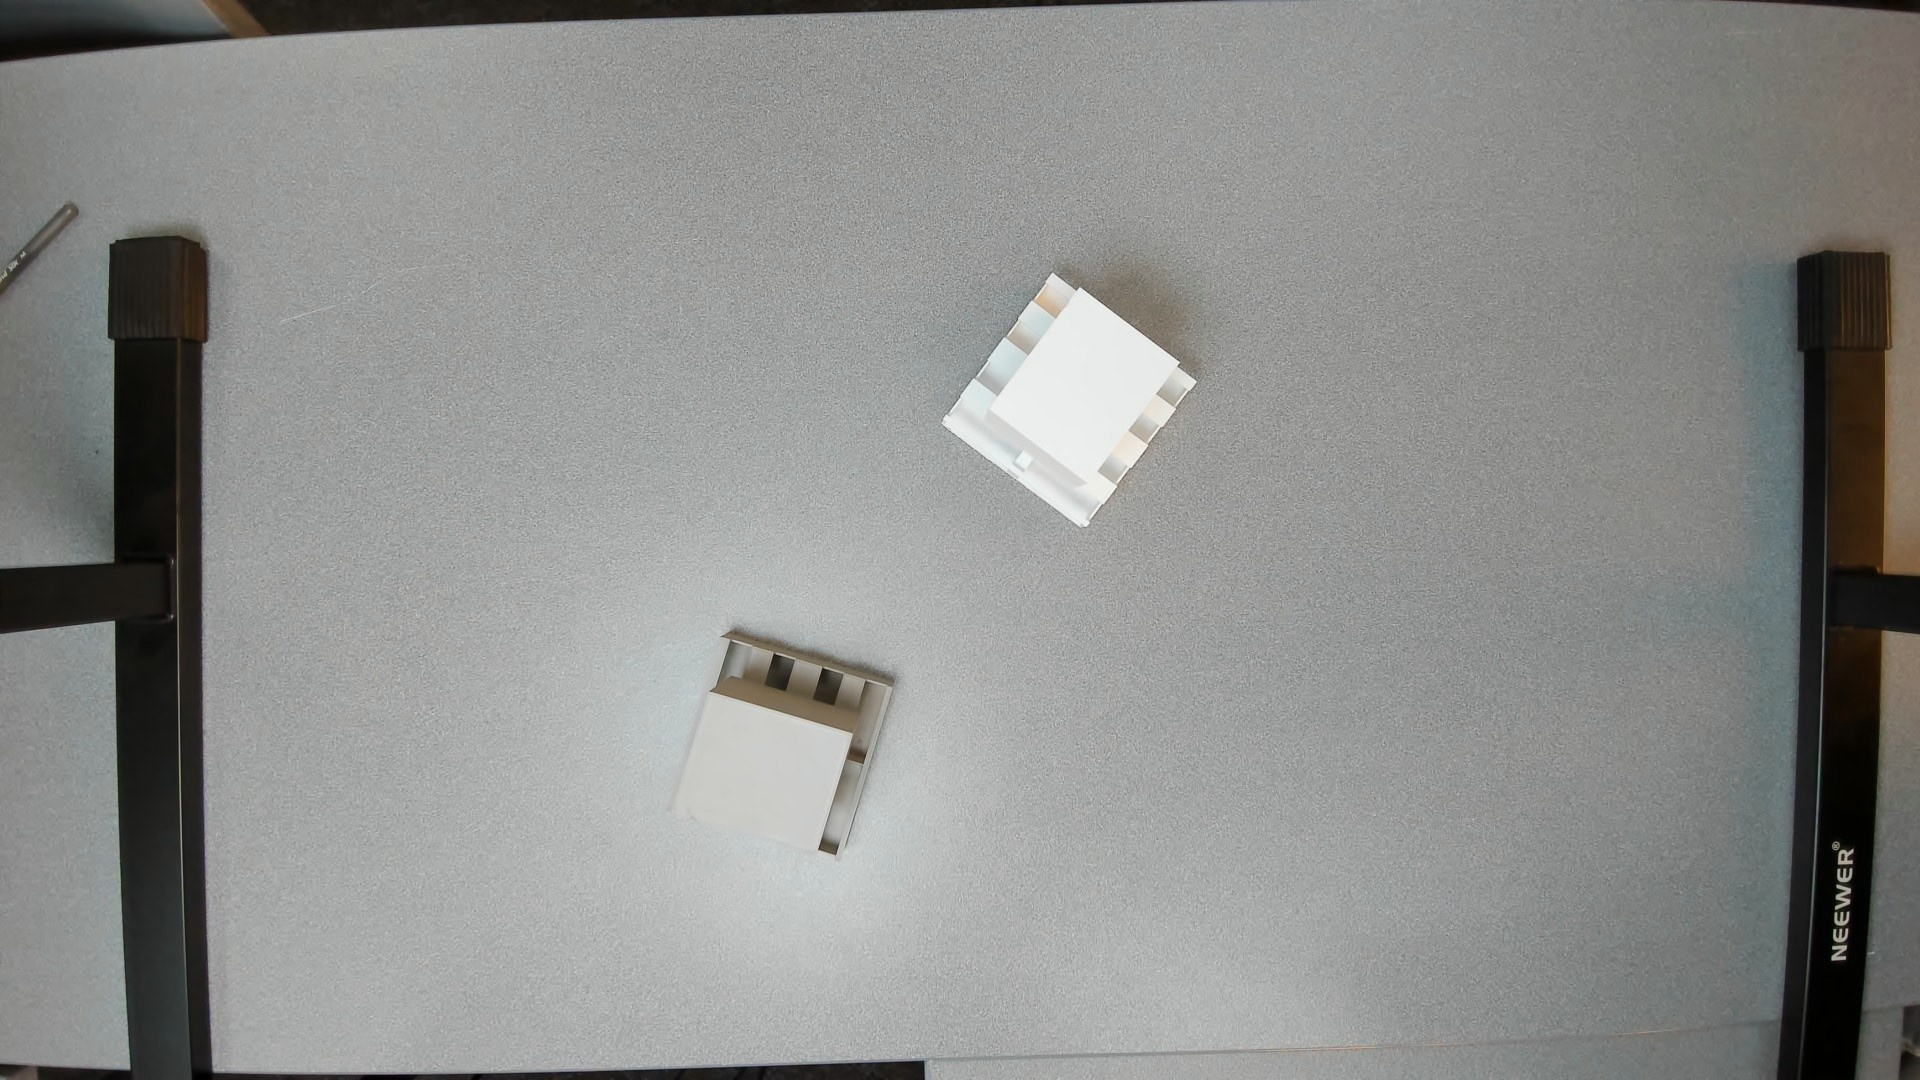grey pallet: (665, 620, 903, 869)
white pallet: (935, 264, 1205, 535)
